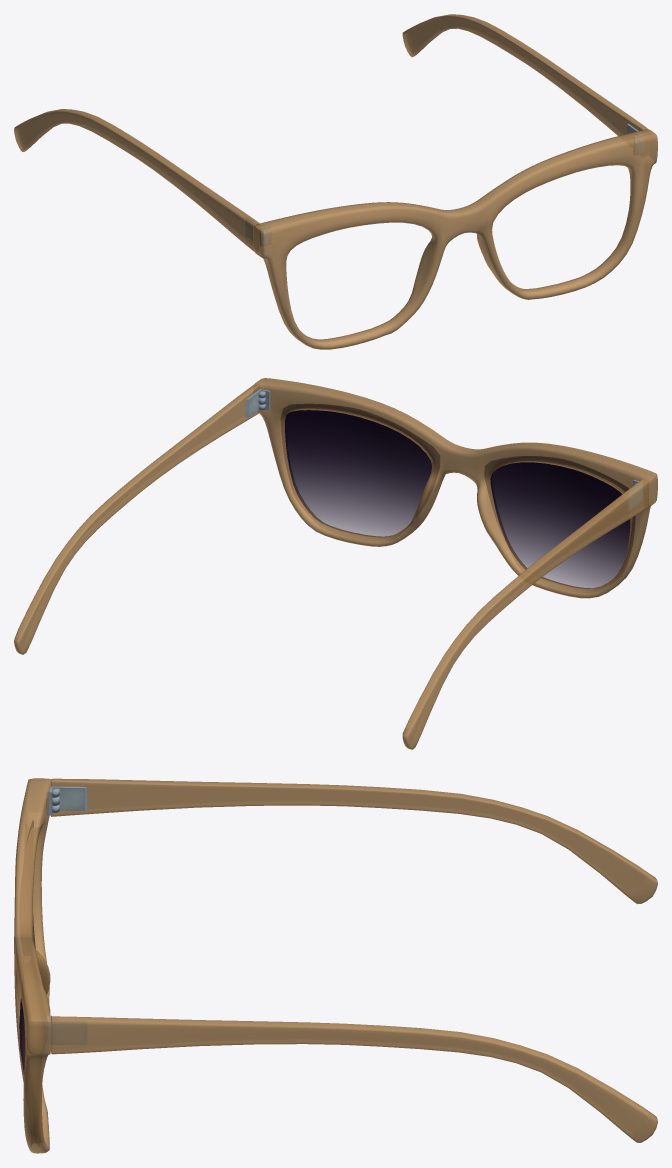
The model's file is Sunglass_02.glb.
The picture shows the model from 3 angles, top to bottom: view 1: azimuth 30°, elevation 25°; view 2: azimuth 150°, elevation 25°; view 3: azimuth 270°, elevation 25°; orthographic projection. The views are drawn at different scales.
Parts seen in each view (by area): view 1: Cube.002; view 2: Cube.002; view 3: Cube.002.
Part boxes in pixels (bbox=[...]): Cube.002: bbox=[14, 14, 657, 349]; Cube.002: bbox=[14, 378, 657, 749]; Cube.002: bbox=[14, 778, 657, 1153].
Bounding box in the file's own units: 13.88 × 4.74 × 15.53.
1 material, 1 textured.
